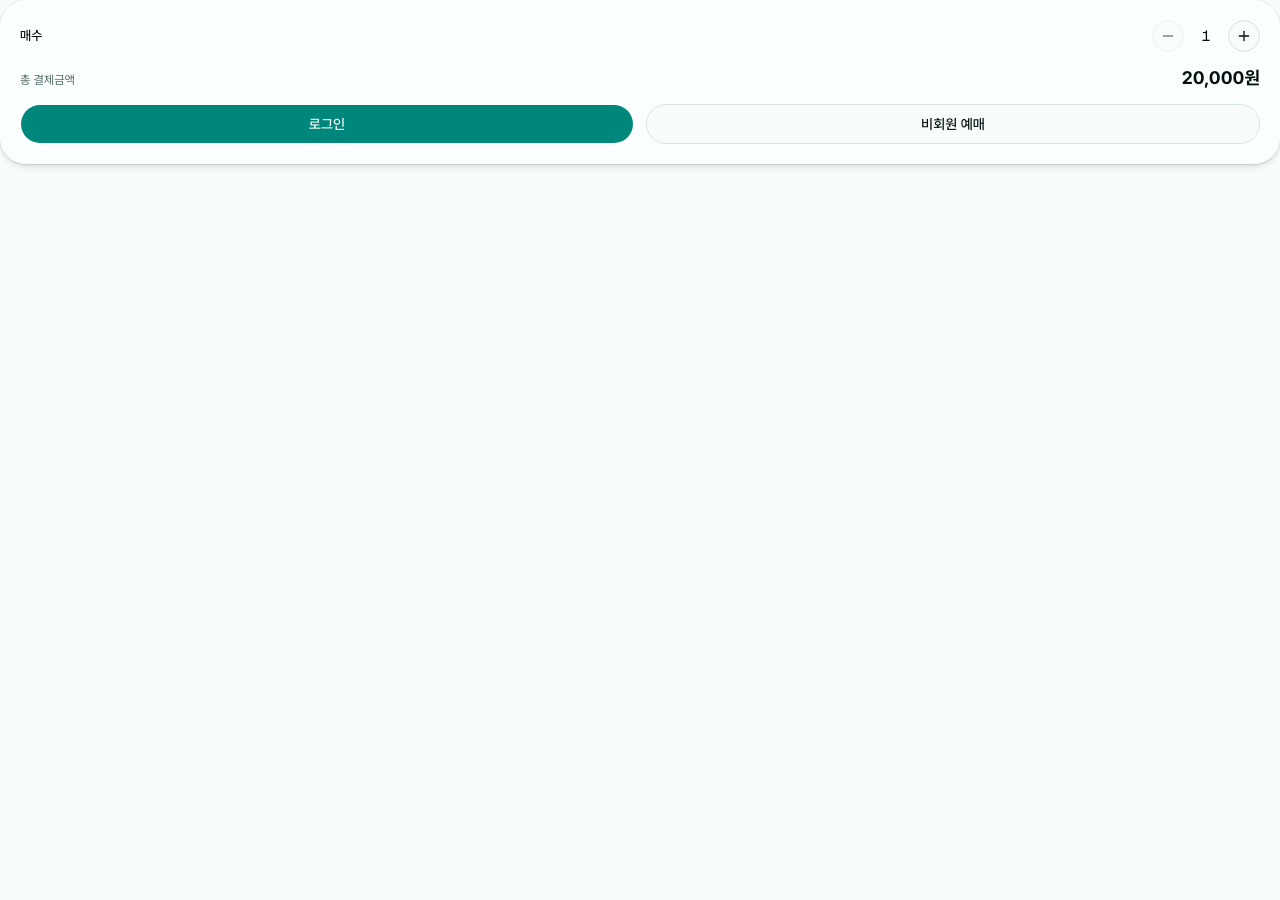
Test: BookingForm — 예매자 정보(2단계) › 비회원 비밀번호 칸에 암호화 저장 안내를 보여준다
Click the button "비회원 예매" at (953, 124), box [646,104,1260,144]
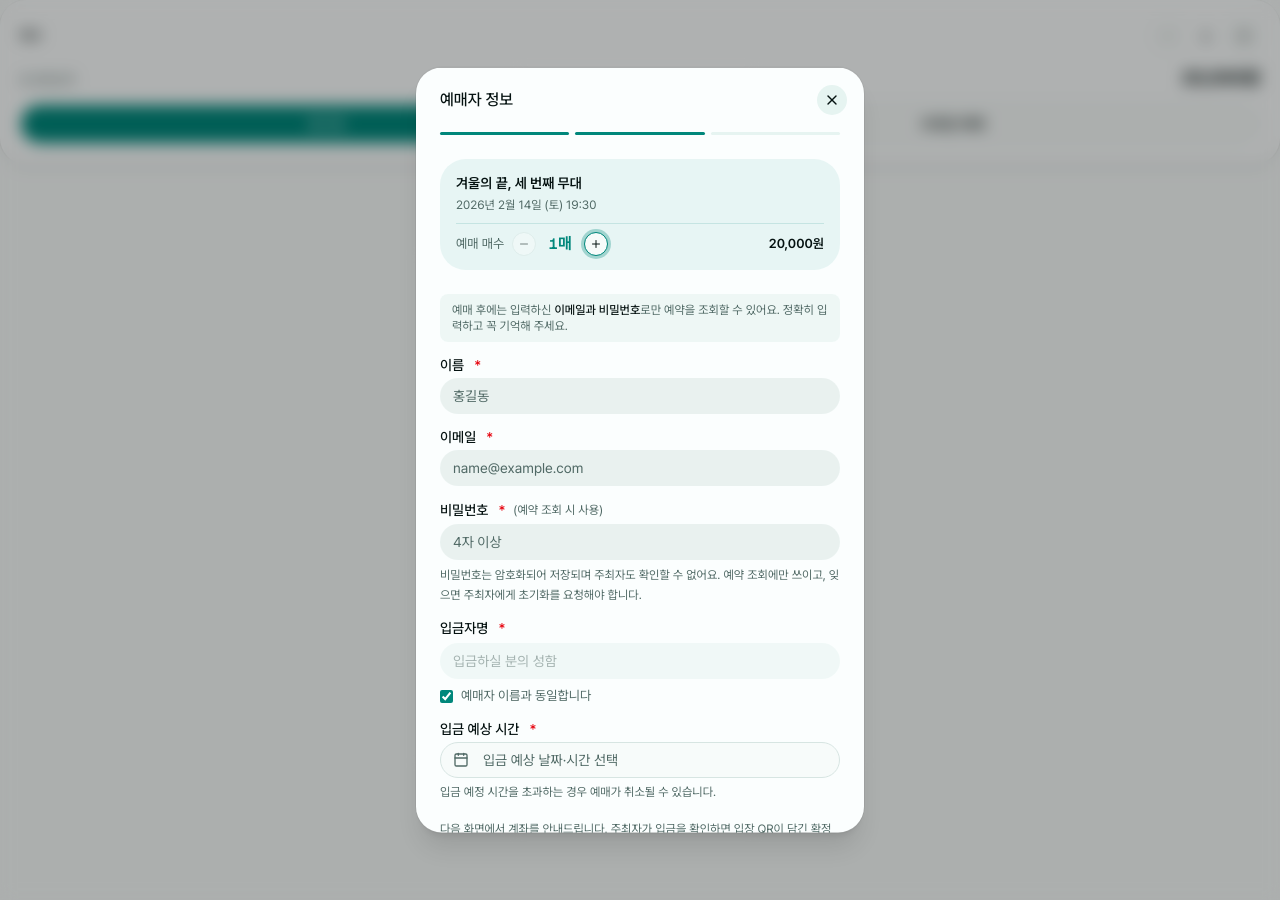
Expected: the text "암호화되어 저장되며 주최자도 확인할 수 없어요" is shown, [440,568,839,601]
